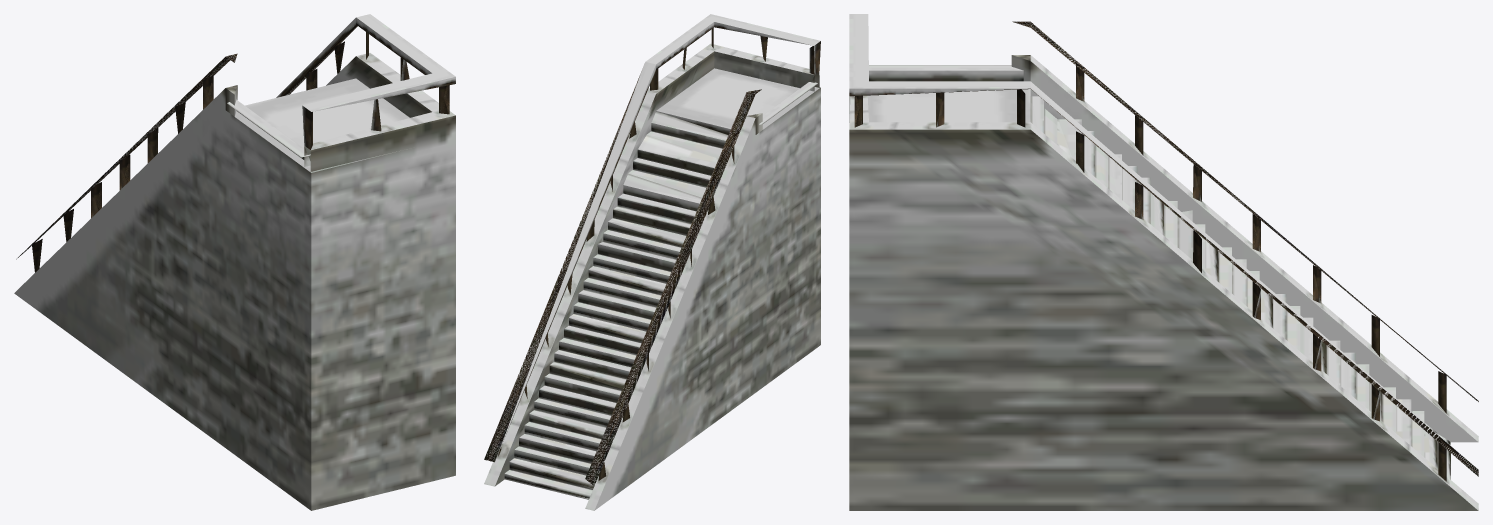
File: general_obj_watchtower03_lod_01.fbx
3 renders of one model, left to right at view 1: azimuth 30°, elevation 25°; view 2: azimuth 150°, elevation 25°; view 3: azimuth 270°, elevation 25°, orthographic. The views are drawn at different scales.
Visible parts, largest first — view 1: Object02; view 2: Object02; view 3: Object02.
Part boxes in pixels (x1,y1,x2,y2): Object02: [14, 14, 455, 510]; Object02: [484, 14, 820, 510]; Object02: [849, 14, 1478, 510].
Size of the model in its own units: 2.91 by 7.49 by 10.12.
